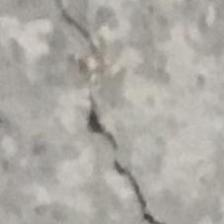Crack: (59, 5, 169, 224)
